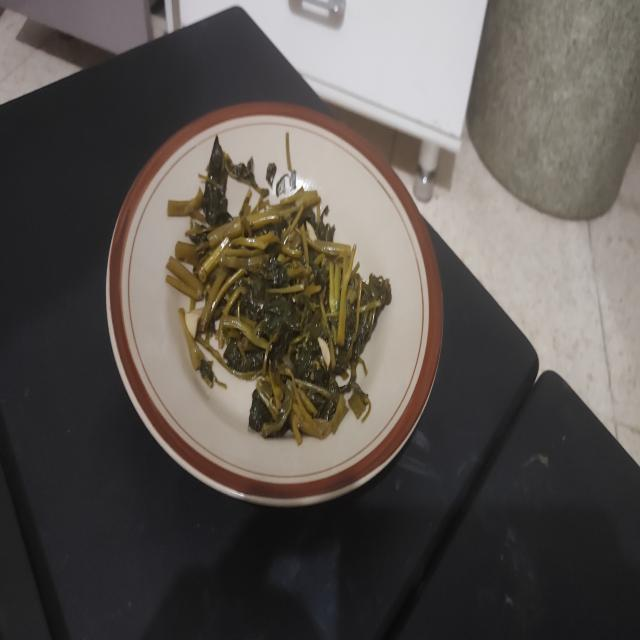tumis_kangkung: (166, 188, 391, 444)
